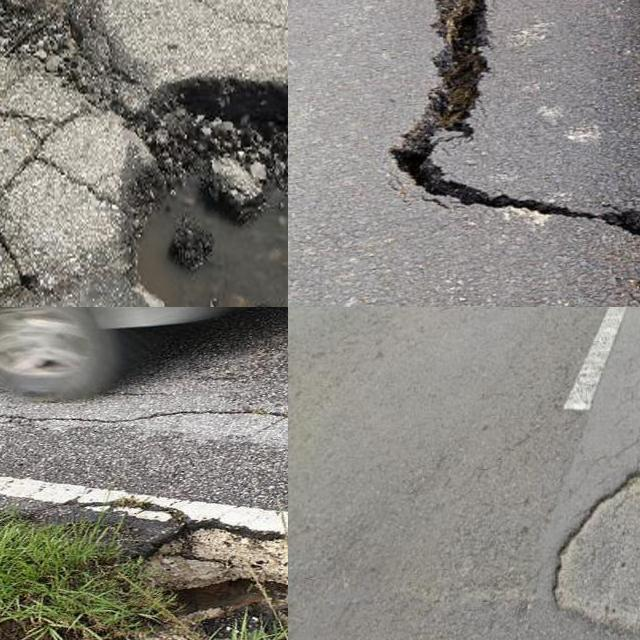Lubang: (113, 77, 288, 307), (551, 475, 640, 639)
Pinggir: (385, 0, 640, 249), (84, 510, 288, 640)
